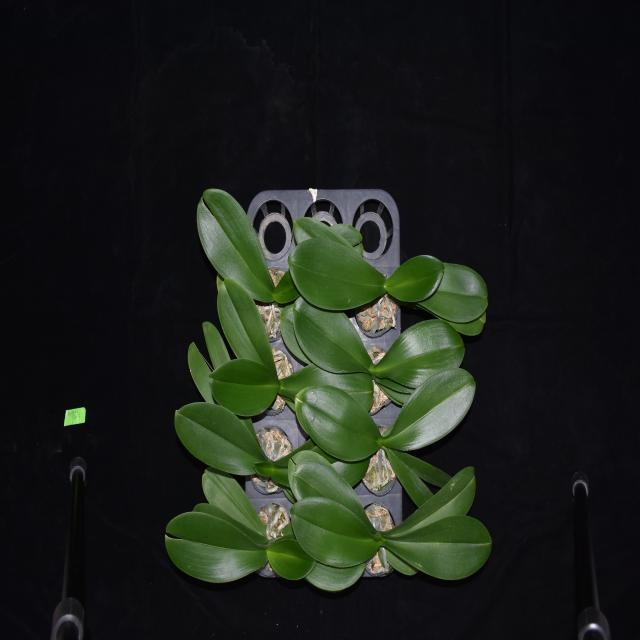leaf: (197, 191, 276, 304), (290, 455, 382, 541), (371, 517, 494, 578), (383, 368, 475, 449), (172, 407, 269, 478), (289, 239, 387, 309), (288, 502, 380, 576), (385, 258, 491, 322), (167, 513, 266, 581), (381, 468, 479, 534), (280, 308, 377, 374), (220, 282, 279, 386), (378, 322, 464, 391), (296, 386, 382, 453), (202, 467, 266, 541), (277, 373, 375, 415), (210, 359, 279, 414), (383, 250, 444, 302), (381, 449, 430, 498), (269, 533, 315, 582)
